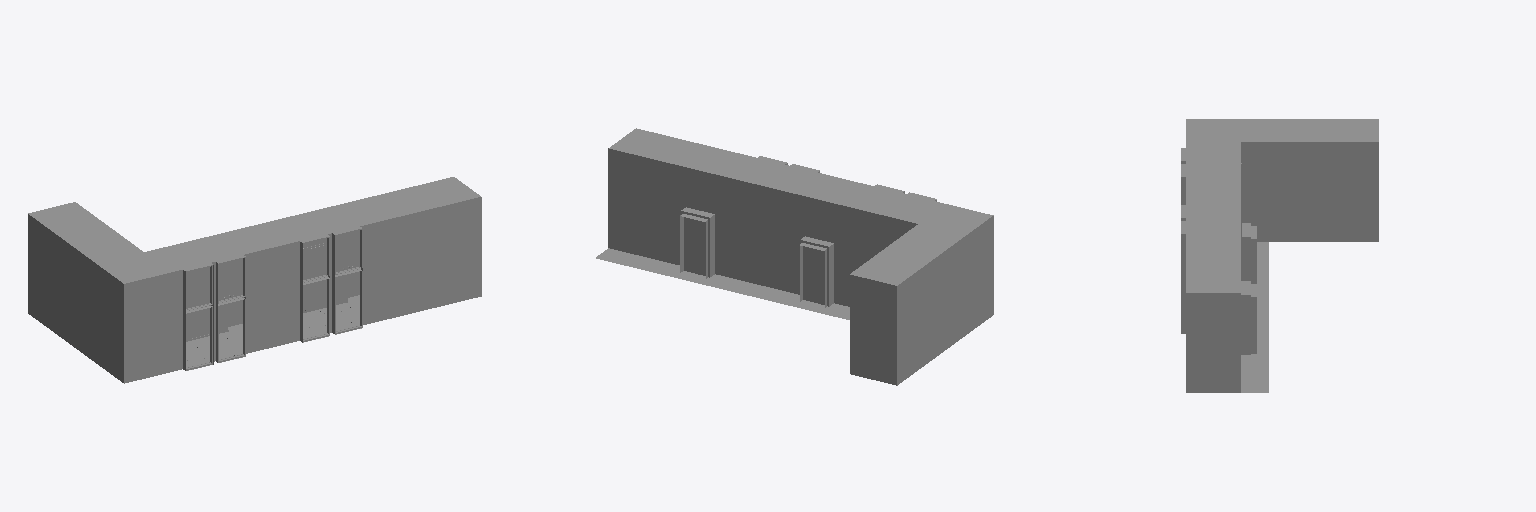
File: school.obj
3 views of the same model, side by side, from view 1: azimuth 30°, elevation 25°; view 2: azimuth 150°, elevation 25°; view 3: azimuth 270°, elevation 25° (orthographic).
Parts seen in each view (by area): view 1: Waende+Decke_Plane.001, Fliesen_Plane.003, windows-frames_Plane.004, Schrank-Tueren_Plane.012, Tuer-hinten_Plane.008, Tuer-hinten.001_Plane.008; view 2: Waende+Decke_Plane.001, floor_Plane, Schrank-Rahmen_Plane.011, Tuer-hinten.001_Plane.008, Tuer-hinten_Plane.008; view 3: Waende+Decke_Plane.001, floor_Plane.
Boxes of the visible parts, x1=… form: Waende+Decke_Plane.001: x1=28, y1=177, x2=481, y2=383; Fliesen_Plane.003: x1=186, y1=295, x2=359, y2=366; windows-frames_Plane.004: x1=186, y1=228, x2=362, y2=370; Schrank-Tueren_Plane.012: x1=303, y1=245, x2=326, y2=310; Tuer-hinten_Plane.008: x1=228, y1=268, x2=242, y2=326; Tuer-hinten.001_Plane.008: x1=348, y1=240, x2=359, y2=297; Waende+Decke_Plane.001: x1=608, y1=128, x2=993, y2=385; floor_Plane: x1=596, y1=248, x2=849, y2=319; Schrank-Rahmen_Plane.011: x1=728, y1=222, x2=793, y2=292; Tuer-hinten.001_Plane.008: x1=684, y1=217, x2=705, y2=275; Tuer-hinten_Plane.008: x1=803, y1=246, x2=824, y2=304; Waende+Decke_Plane.001: x1=1181, y1=119, x2=1378, y2=392; floor_Plane: x1=1241, y1=242, x2=1268, y2=392.
Size of the model in its own units: 151 by 40.17 by 72.3.